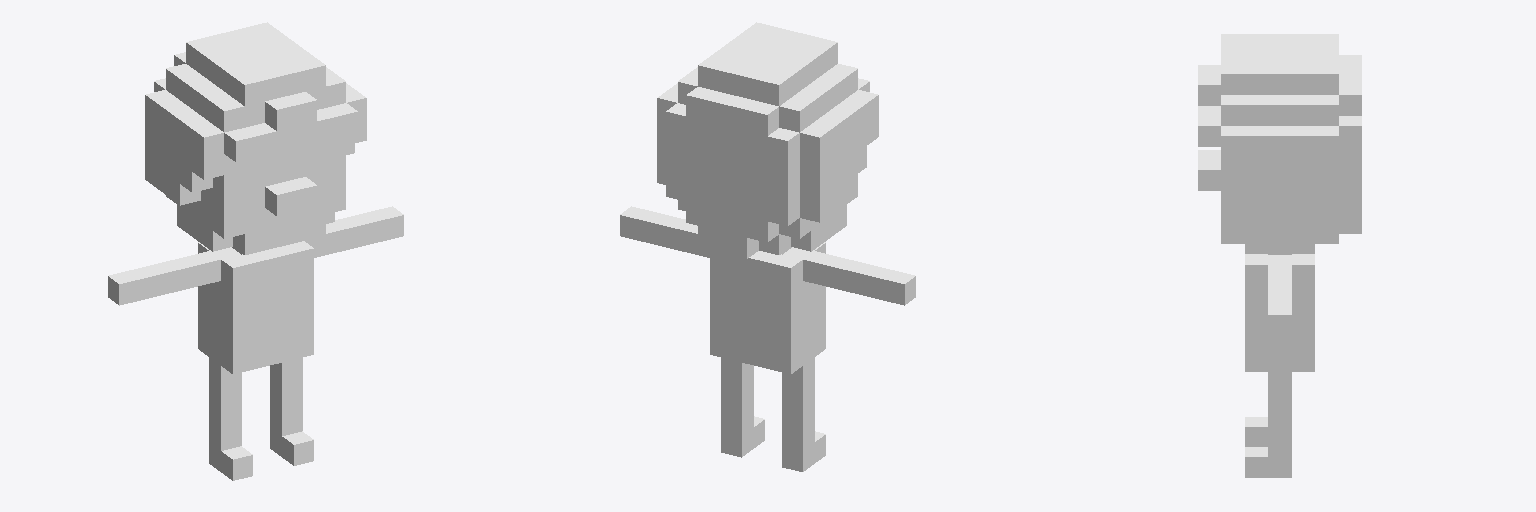
The model's file is RunnerD.obj.
3 views of the same model, side by side, from view 1: azimuth 30°, elevation 25°; view 2: azimuth 150°, elevation 25°; view 3: azimuth 270°, elevation 25° (orthographic).
Size of the model in its own units: 14 by 19 by 7.